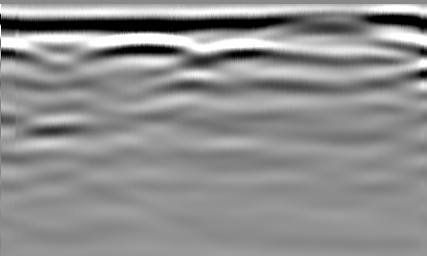pipe: (269, 8, 378, 38)
steel: (79, 33, 197, 61), (205, 39, 285, 64)
